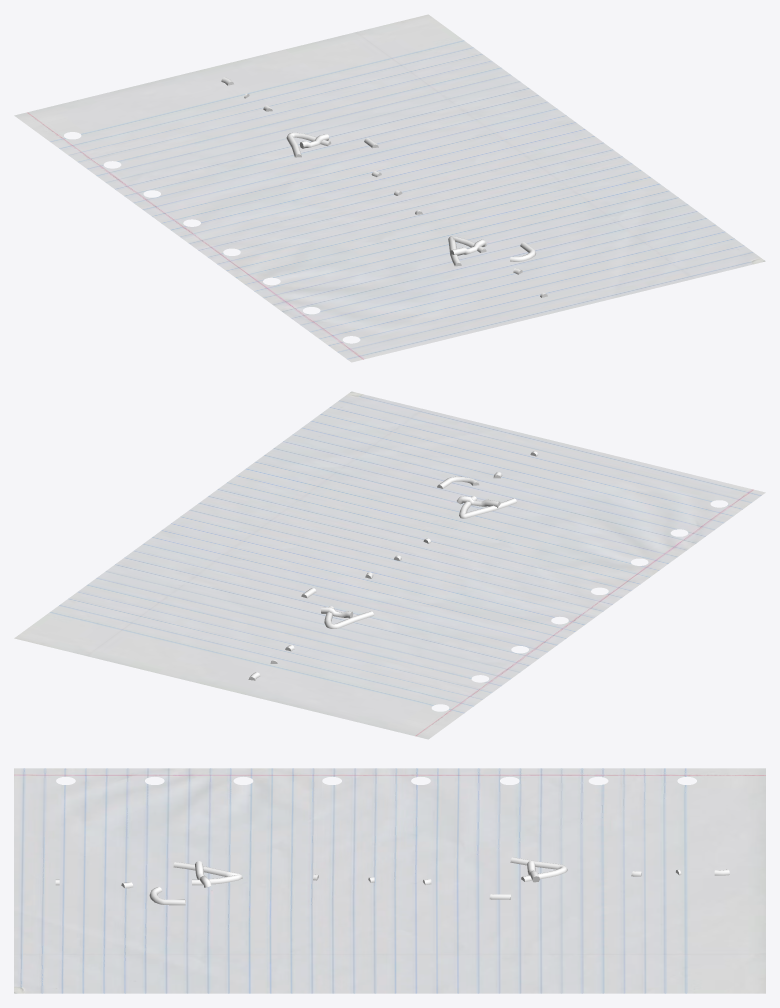
File: notebook_product.glb
3 renders of one model, top to bottom at view 1: azimuth 30°, elevation 25°; view 2: azimuth 150°, elevation 25°; view 3: azimuth 270°, elevation 25°, orthographic. The views are drawn at different scales.
Visible parts, largest first — view 1: Paper, Drawing; view 2: Paper, Drawing; view 3: Paper, Drawing.
Boxes of the visible parts, x1,y1,x2,y2 form: Paper: [14, 14, 765, 362]; Drawing: [221, 77, 547, 297]; Paper: [14, 391, 765, 739]; Drawing: [248, 451, 538, 680]; Paper: [14, 768, 765, 993]; Drawing: [55, 857, 729, 905].
Bounding box in the file's own units: 2 × 0.0458 × 2.82.
Materials: 2 (1 with a texture image).
